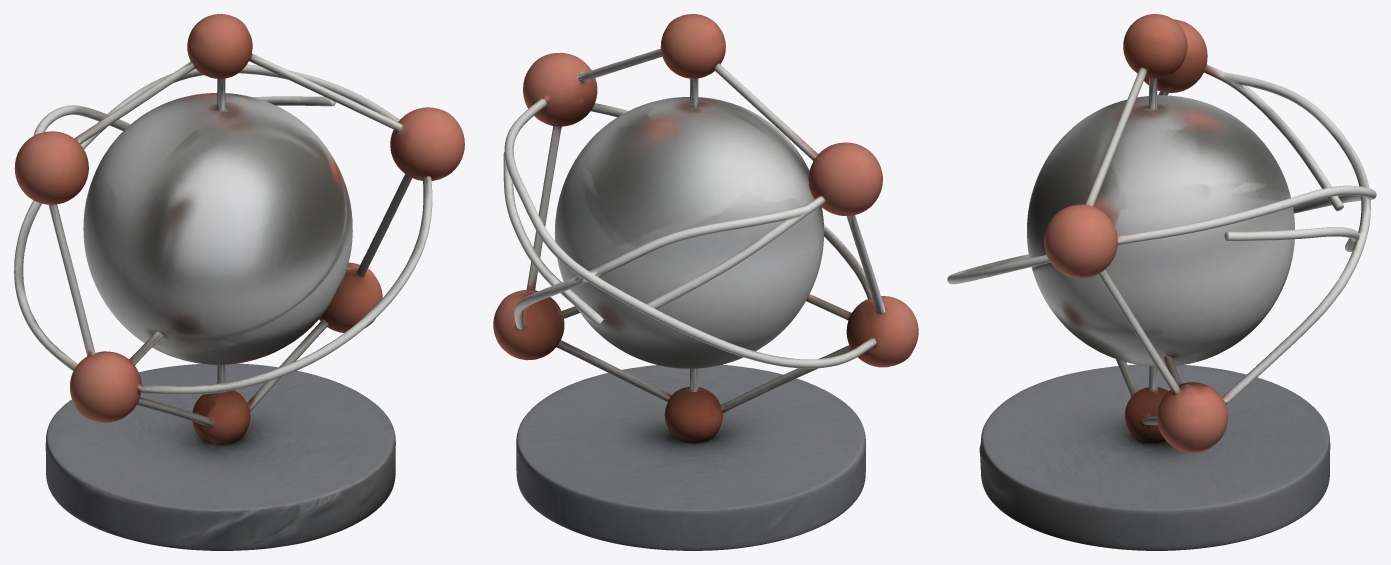
The model's file is agent-network-web.glb.
3 views of the same model, side by side, from view 1: azimuth 30°, elevation 25°; view 2: azimuth 150°, elevation 25°; view 3: azimuth 270°, elevation 25° (orthographic).
Parts seen in each view (by area): view 1: node_0; view 2: node_0; view 3: node_0.
Boxes of the visible parts, x1=… form: node_0: x1=14, y1=14, x2=464, y2=550; node_0: x1=493, y1=14, x2=918, y2=550; node_0: x1=947, y1=14, x2=1376, y2=550.
Bounding box in the file's own units: 0.8789 × 0.9832 × 0.8281.
1 material, 1 textured.
